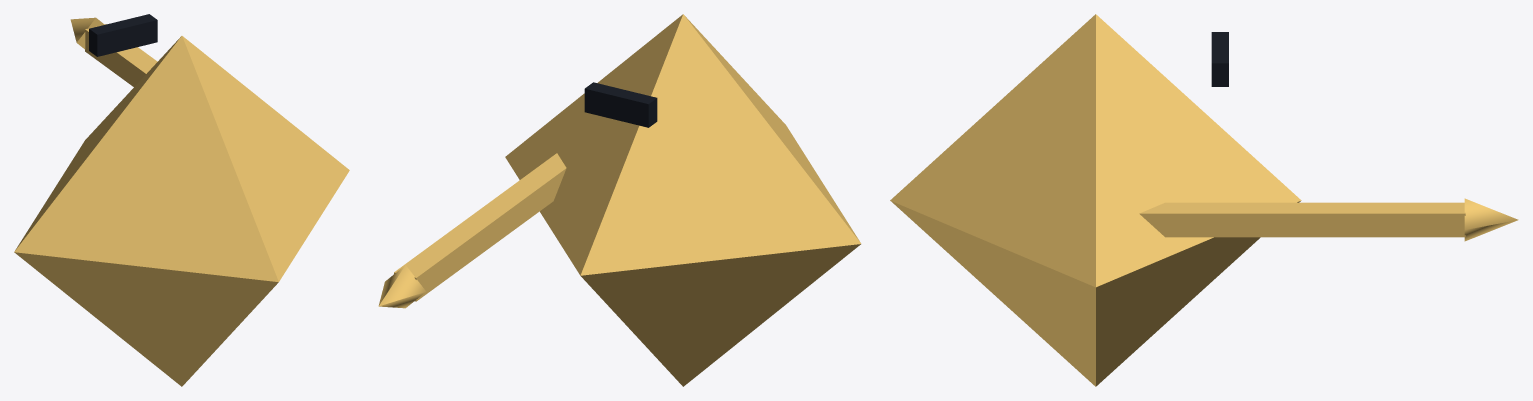
File: enemy-playground-mob-captain-v1.glb
3 views of the same model, side by side, from view 1: azimuth 30°, elevation 25°; view 2: azimuth 150°, elevation 25°; view 3: azimuth 270°, elevation 25° (orthographic). The views are drawn at different scales.
Visible parts, largest first — view 1: Mob Captain; view 2: Mob Captain; view 3: Mob Captain.
Part boxes in pixels (<box>): Mob Captain: <box>14,14,349,386</box>; Mob Captain: <box>378,14,861,386</box>; Mob Captain: <box>890,14,1518,386</box>.
Size of the model in its own units: 1.89 by 1.89 by 2.89.
